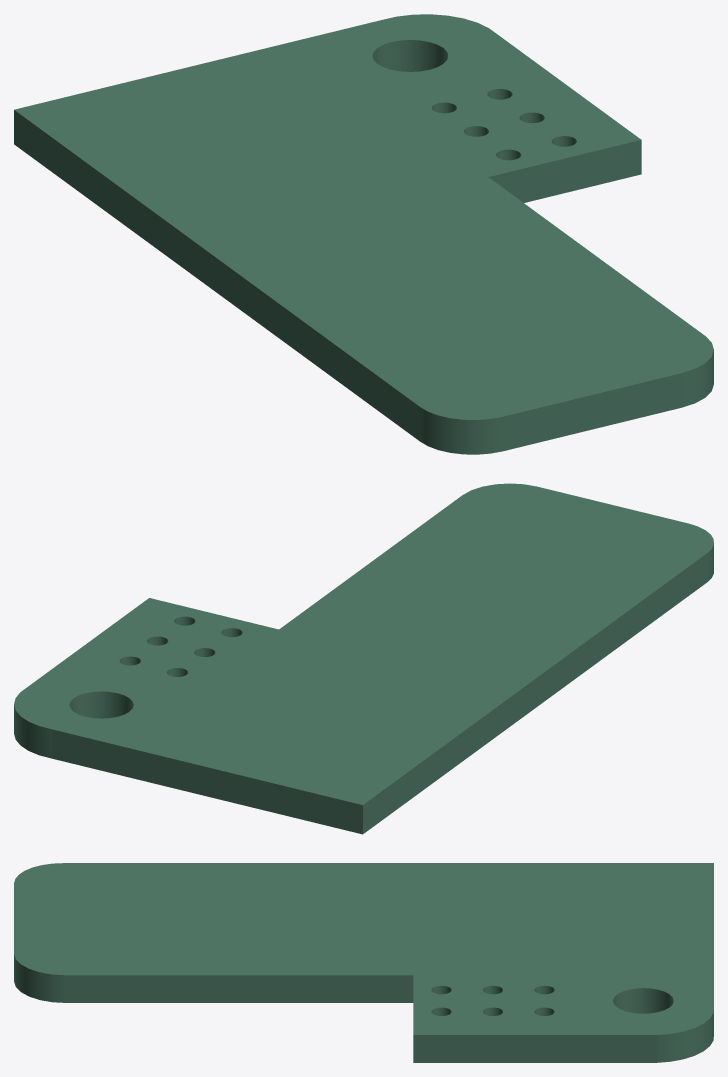
Rendered from Adafruit 128x32 Pi OLED.glb.
3 views of the same model, one above another, from view 1: azimuth 30°, elevation 25°; view 2: azimuth 150°, elevation 25°; view 3: azimuth 270°, elevation 25° (orthographic). The views are drawn at different scales.
Parts seen in each view (by area): view 1: =>[0:1:1:2]; view 2: =>[0:1:1:2]; view 3: =>[0:1:1:2].
Part boxes in pixels (<box>): =>[0:1:1:2]: <box>14,14,713,454</box>; =>[0:1:1:2]: <box>14,483,713,834</box>; =>[0:1:1:2]: <box>14,863,713,1062</box>.
Size of the model in its own units: 0.0201 by 0.00151 by 0.0345.
